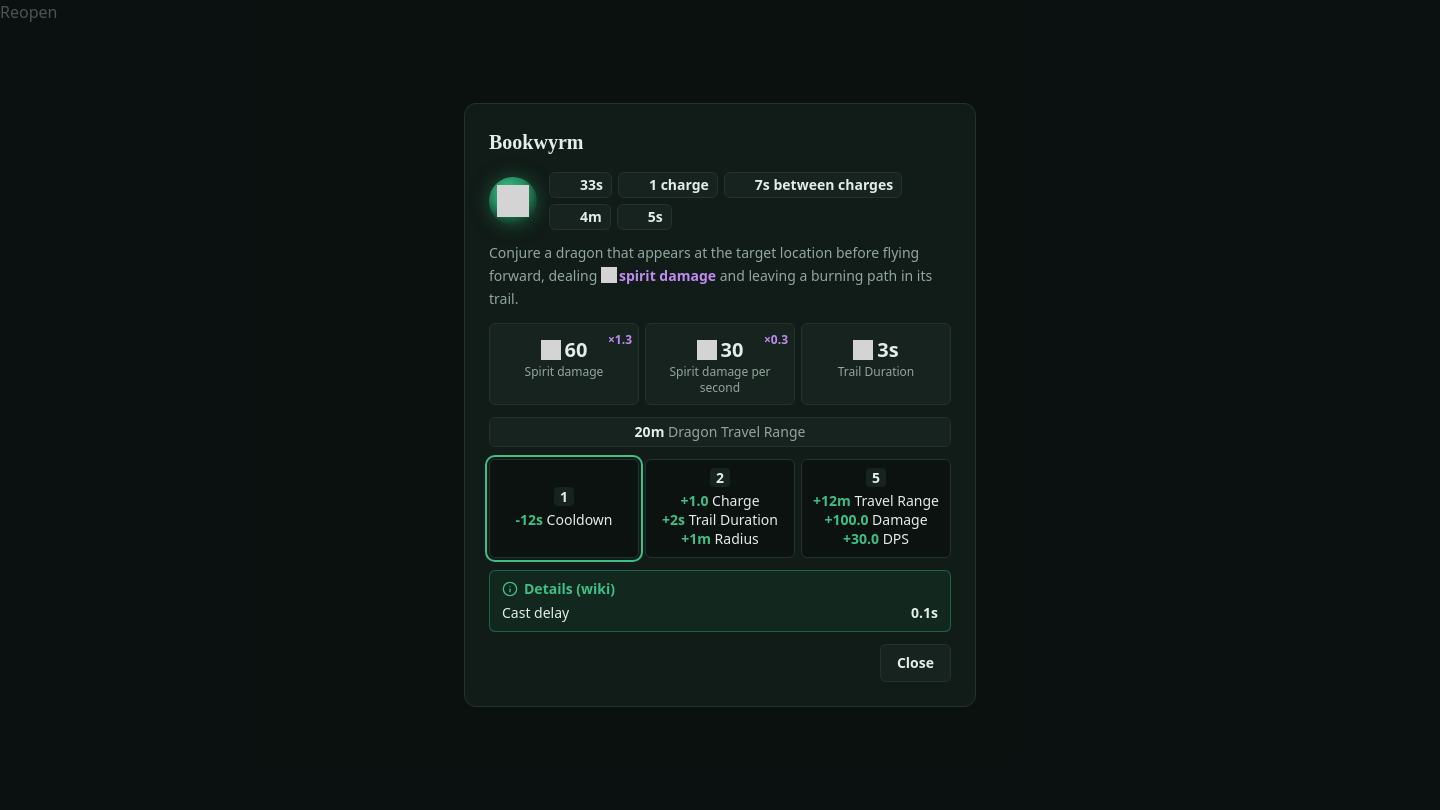
it: AbilityDialog › adds the first two tiers together when the second is clicked
The width and height of the screenshot is (1440, 810).
Click the button named "Tier 2" at coordinates (720, 508), box [645,459,795,558]
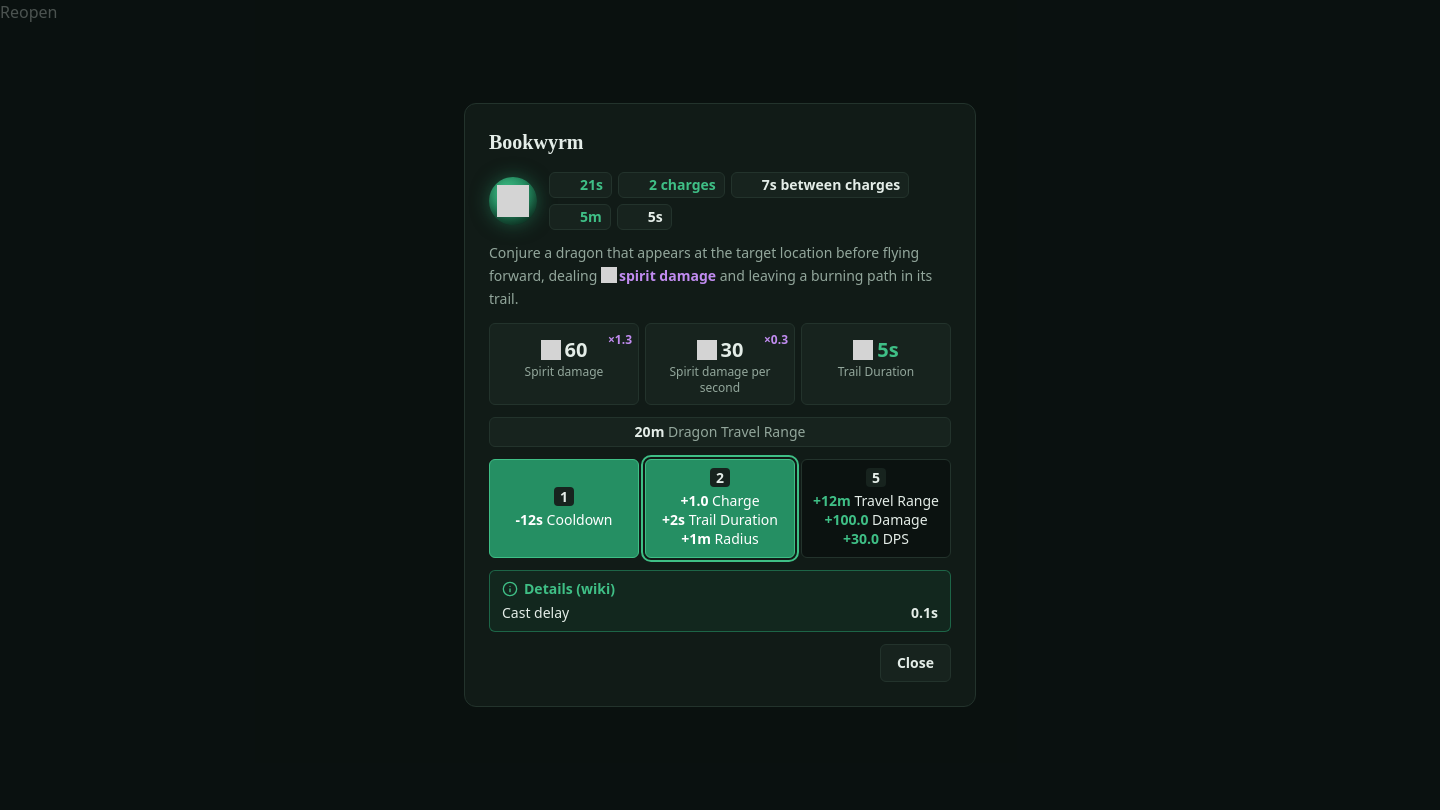
Result: the text "21s" is shown at [580,175,603,195]
Result: the text "2 charges" is shown at [649,175,716,195]
Result: the text "5m" is shown at [580,207,602,227]
